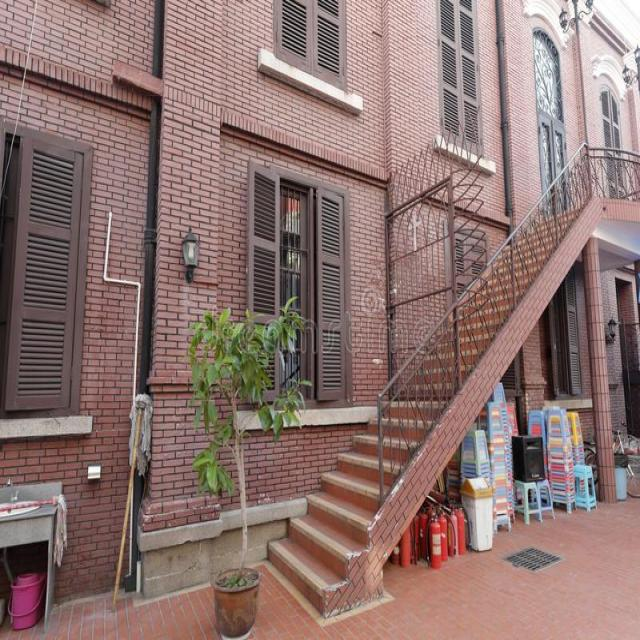fire_extinguisher: (428, 508, 441, 570), (399, 517, 412, 568), (420, 502, 430, 562), (408, 508, 418, 564), (448, 504, 458, 560), (438, 508, 448, 562), (453, 505, 464, 554)
